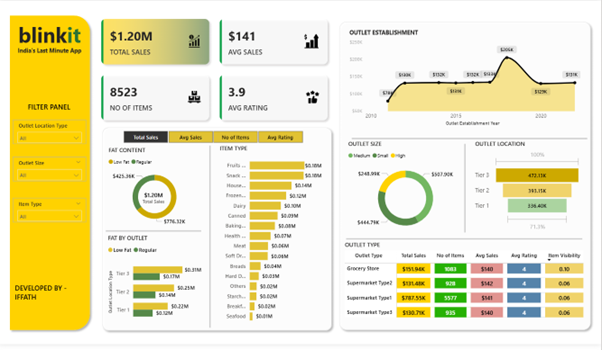

What the dashboard file says about the page in this screenshot:
{"tool":"powerbi","page":{"name":"Page 1","canvas":[1400,800],"ordinal":0},"visuals":[{"type":"shape","box":[16.5,25.5,204.1,750.4],"z":0},{"type":"textbox","box":[33,40.5,171.1,75],"z":1000},{"type":"textbox","box":[33,100.6,171.1,28.5],"z":2000},{"type":"cardVisual","fields":{"Data":["BlinkIT Grocery Data.Total Sales","BlinkIT Grocery Data.Avg Sales","BlinkIT Grocery Data.No of Items","BlinkIT Grocery Data.Avg Rating"]},"box":[220.9,24.9,561.6,270.7],"z":3000},{"type":"shape","box":[231.7,286.2,550.9,490.6],"z":4000},{"type":"donutChart","title":"FAT CONTENT","fields":{"Y":["BlinkIT Grocery Data.Total Sales"],"Category":["BlinkIT Grocery Data.Item Fat Content"]},"box":[250.9,337.7,224.1,190.9],"z":5000},{"type":"slicer","fields":{"Values":["Metrics.Metrics"]},"box":[264.7,295.9,465.2,40.9],"z":6000},{"type":"cardVisual","fields":{"Data":["BlinkIT Grocery Data.Total Sales"]},"box":[313.4,420.5,93.4,75.9],"z":7000},{"type":"clusteredBarChart","title":"FAT BY OUTLET","fields":{"Y":["BlinkIT Grocery Data.Total Sales"],"Category":["BlinkIT Grocery Data.Outlet Location Type"],"Series":["BlinkIT Grocery Data.Item Fat Content"]},"box":[249.3,542.8,227.2,216.2],"z":8000},{"type":"shape","box":[249.2,531.4,221.9,9.7],"z":9000},{"type":"shape","box":[475,336.8,33.1,424.4],"z":10000},{"type":"barChart","title":"ITEM TYPE","fields":{"Y":["BlinkIT Grocery Data.Total Sales"],"Category":["BlinkIT Grocery Data.Item Type"]},"box":[508.1,334.8,247.2,424.4],"z":11000},{"type":"shape","box":[782.4,38.9,602,735.8],"z":12000},{"type":"lineChart","title":"OUTLET ESTABLISHMENT","fields":{"Y":["BlinkIT Grocery Data.Total Sales"],"Category":["BlinkIT Grocery Data.Outlet Establishment Year"]},"box":[809.8,64.2,547,231.7],"z":13000},{"type":"shape","box":[807.9,549,549,9.7],"z":14000},{"type":"donutChart","title":"OUTLET SIZE","fields":{"Y":["BlinkIT Grocery Data.Total Sales"],"Category":["BlinkIT Grocery Data.Outlet Size"]},"box":[807.9,323.1,276.4,225.8],"z":15000},{"type":"shape","box":[1070.7,332.9,25.3,206.3],"z":16000},{"type":"funnel","title":"OUTLET LOCATION","fields":{"Y":["Sum(BlinkIT Grocery Data.Sales)"],"Category":["BlinkIT Grocery Data.Outlet Location Type"]},"box":[1101.8,323.1,255,218],"z":17000},{"type":"shape","box":[820.4,316.4,547.6,9.3],"z":18000},{"type":"pivotTable","title":"OUTLET TYPE","fields":{"Rows":["BlinkIT Grocery Data.Outlet Type"],"Values":["BlinkIT Grocery Data.Total Sales","BlinkIT Grocery Data.No of Items","BlinkIT Grocery Data.Avg Sales","BlinkIT Grocery Data.Avg Rating","Avg(BlinkIT Grocery Data.Item Visibility)"]},"box":[799.2,558.3,566.1,200.8],"z":19000},{"type":"slicer","fields":{"Values":["BlinkIT Grocery Data.Outlet Location Type"]},"box":[33.1,276.2,170.4,56.8],"z":20000},{"type":"slicer","fields":{"Values":["BlinkIT Grocery Data.Outlet Size"]},"box":[33.1,362.9,170.4,56.8],"z":21000},{"type":"slicer","fields":{"Values":["BlinkIT Grocery Data.Item Type"]},"box":[33.1,459.2,170.4,56.8],"z":22000},{"type":"textbox","box":[62.4,230.9,114.3,33.5],"z":23000},{"type":"textbox","box":[33.1,651.7,170.4,58.4],"z":23001}]}

Visuals, with their boxes in screenshot pixels (x1, y1, x2, y2), scaled from the page's 1400x800 canvas onto the 602x350 screenshot:
shape: (7, 11, 95, 339)
textbox: (14, 18, 88, 51)
textbox: (14, 44, 88, 56)
cardVisual - BlinkIT Grocery Data.Total Sales x BlinkIT Grocery Data.Avg Sales: (95, 11, 336, 129)
shape: (100, 125, 337, 340)
"FAT CONTENT" donutChart: (108, 148, 204, 231)
slicer - Metrics.Metrics: (114, 129, 314, 147)
cardVisual - BlinkIT Grocery Data.Total Sales: (135, 184, 175, 217)
"FAT BY OUTLET" clusteredBarChart: (107, 237, 205, 332)
shape: (107, 232, 203, 237)
shape: (204, 147, 218, 333)
"ITEM TYPE" barChart: (218, 146, 325, 332)
shape: (336, 17, 595, 339)
"OUTLET ESTABLISHMENT" lineChart: (348, 28, 583, 129)
shape: (347, 240, 583, 244)
"OUTLET SIZE" donutChart: (347, 141, 466, 240)
shape: (460, 146, 471, 236)
"OUTLET LOCATION" funnel: (474, 141, 583, 237)
shape: (353, 138, 588, 142)
"OUTLET TYPE" pivotTable: (344, 244, 587, 332)
slicer - BlinkIT Grocery Data.Outlet Location Type: (14, 121, 88, 146)
slicer - BlinkIT Grocery Data.Outlet Size: (14, 159, 88, 184)
slicer - BlinkIT Grocery Data.Item Type: (14, 201, 88, 226)
textbox: (27, 101, 76, 116)
textbox: (14, 285, 88, 311)
